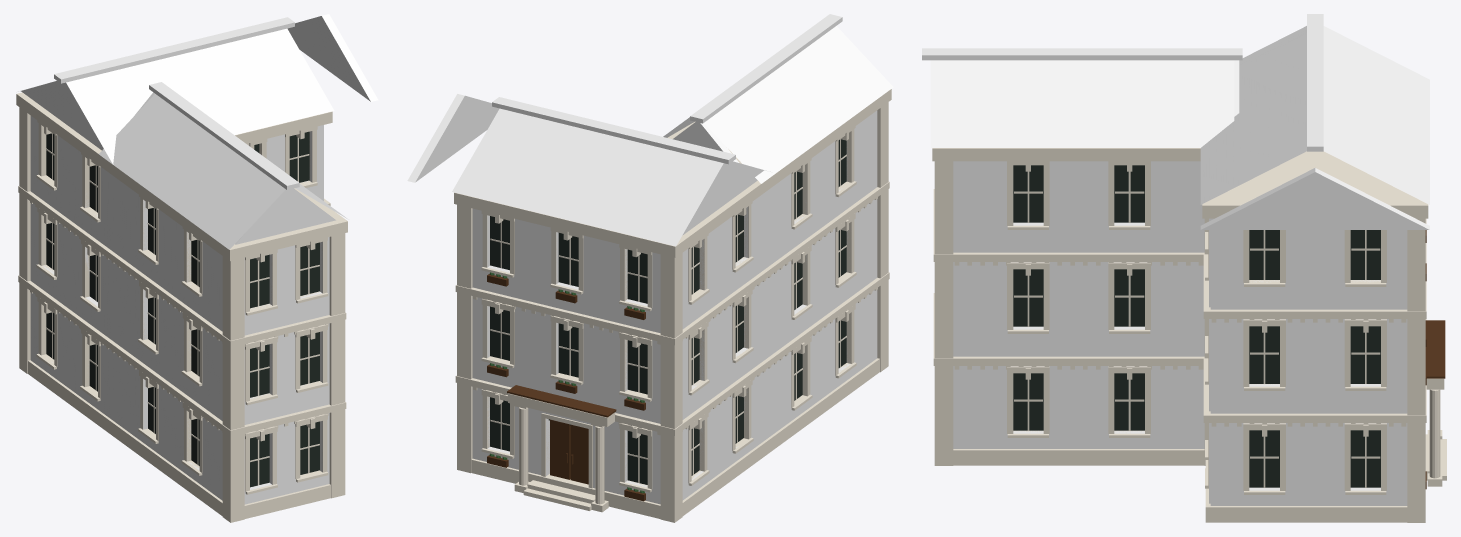
The model's file is gedung-g09-blender-v1.glb.
3 renders of one model, left to right at view 1: azimuth 30°, elevation 25°; view 2: azimuth 150°, elevation 25°; view 3: azimuth 270°, elevation 25°, orthographic. The views are drawn at different scales.
Visible parts, largest first — view 1: Cube.009, Cube.048, Cube.732, Cube, Cube.014; view 2: Cube.009, Cube.732, Cube.048, Cube, Cube.014, Cube.017; view 3: Cube.048, Cube.009, Cube.732, Cube.014, Cube.017, Cube.
Boxes of the visible parts, x1,y1,x2,y2 form: Cube.009: [16, 92, 347, 522]; Cube.048: [21, 14, 378, 500]; Cube.732: [18, 17, 348, 249]; Cube: [135, 92, 335, 504]; Cube.014: [46, 131, 319, 487]; Cube.009: [454, 89, 891, 522]; Cube.732: [452, 14, 893, 246]; Cube.048: [407, 94, 877, 500]; Cube: [472, 122, 739, 504]; Cube.014: [490, 139, 846, 484]; Cube.017: [487, 274, 645, 501]; Cube.048: [953, 29, 1429, 505]; Cube.009: [932, 148, 1446, 522]; Cube.732: [922, 14, 1429, 204]; Cube.014: [1013, 165, 1380, 487]; Cube.017: [1425, 230, 1445, 489]; Cube: [1209, 60, 1239, 503].
Size of the model in its own units: 10.8 by 12.48 by 15.55.
